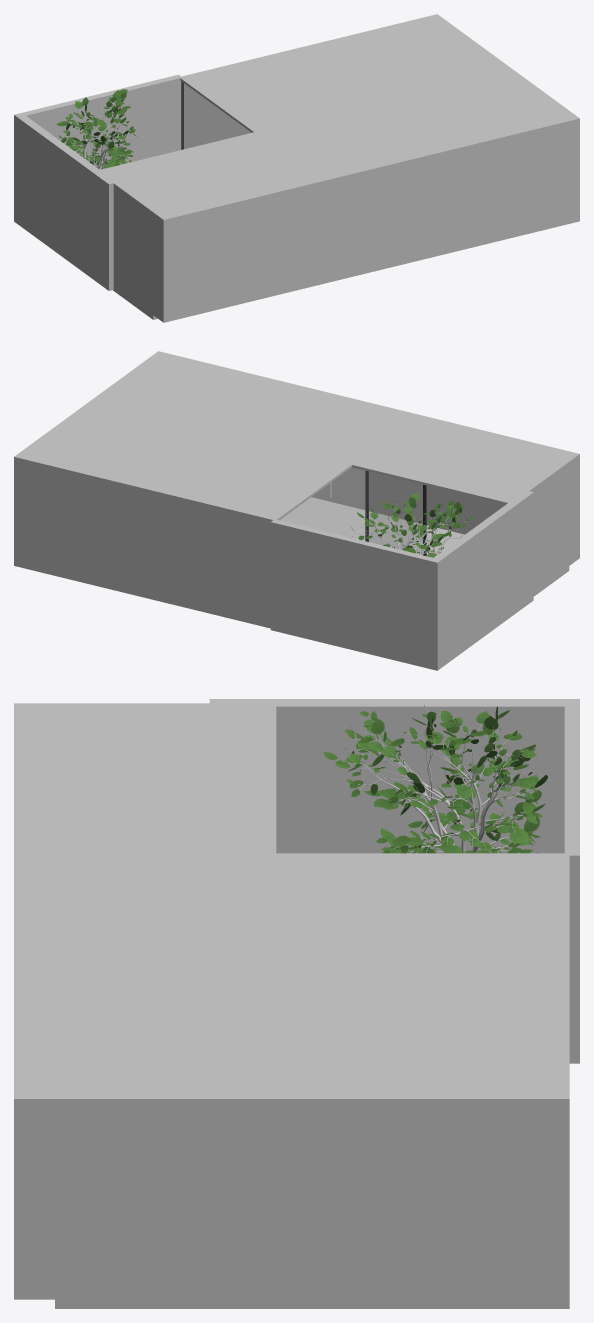
The model's file is room 8.fbx.
3 views of the same model, one above another, from view 1: azimuth 30°, elevation 25°; view 2: azimuth 150°, elevation 25°; view 3: azimuth 270°, elevation 25° (orthographic). The views are drawn at different scales.
Visible parts, largest first — view 1: wall 2, roof, outside wall 1, outside wall 2, wall 3, leaves, wall 4, window, tree, floor, wall 5, wall 1; view 2: roof, wall 4, outside wall 2, outside wall 1, wall 2, floor, window, wall 3, leaves, tree, wall 1, window frame; view 3: roof, wall 1, outside wall 1, wall 2, leaves, floor, outside wall 2, tree, wall 5, wall 4.
Part boxes in pixels (x1,y1,x2,y2): wall 2: [152, 110, 579, 322]; roof: [99, 14, 568, 213]; outside wall 1: [14, 113, 116, 290]; outside wall 2: [17, 74, 181, 167]; wall 3: [113, 182, 155, 318]; leaves: [56, 89, 136, 168]; wall 4: [181, 14, 437, 148]; window: [182, 82, 250, 148]; tree: [65, 99, 130, 169]; floor: [113, 279, 157, 319]; wall 5: [363, 31, 499, 127]; wall 1: [434, 15, 544, 92]; roof: [14, 360, 568, 521]; wall 4: [14, 456, 274, 616]; outside wall 2: [270, 519, 441, 668]; outside wall 1: [429, 491, 533, 670]; wall 2: [147, 351, 579, 566]; floor: [14, 497, 569, 628]; window: [280, 467, 422, 553]; wall 3: [527, 465, 567, 584]; leaves: [350, 493, 475, 557]; tree: [354, 503, 468, 555]; wall 1: [15, 359, 150, 455]; window frame: [365, 470, 426, 555]; roof: [55, 703, 569, 1103]; wall 1: [57, 1094, 566, 1299]; outside wall 1: [209, 699, 579, 853]; wall 2: [14, 703, 60, 1299]; leaves: [323, 705, 547, 853]; floor: [55, 1295, 569, 1308]; outside wall 2: [564, 699, 579, 1063]; tree: [337, 707, 537, 853]; wall 5: [57, 1027, 566, 1033]; wall 4: [564, 855, 569, 1299].
Size of the model in its own units: 11 by 18.4 by 5.48.
